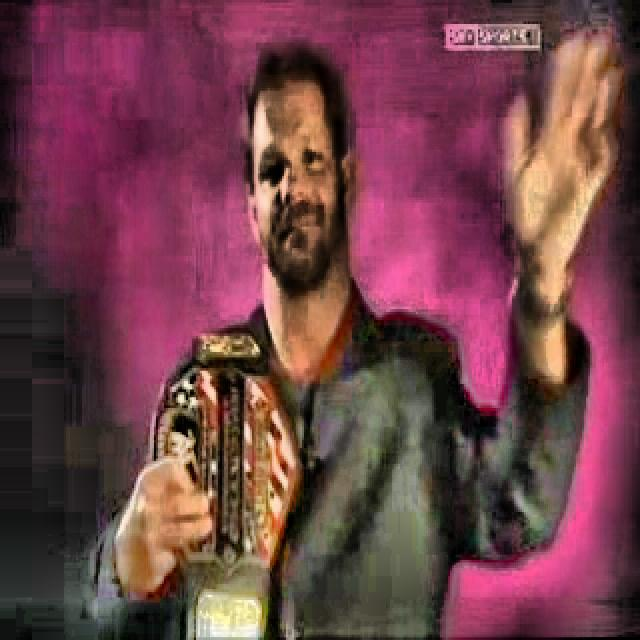L: (82, 37, 606, 638)
